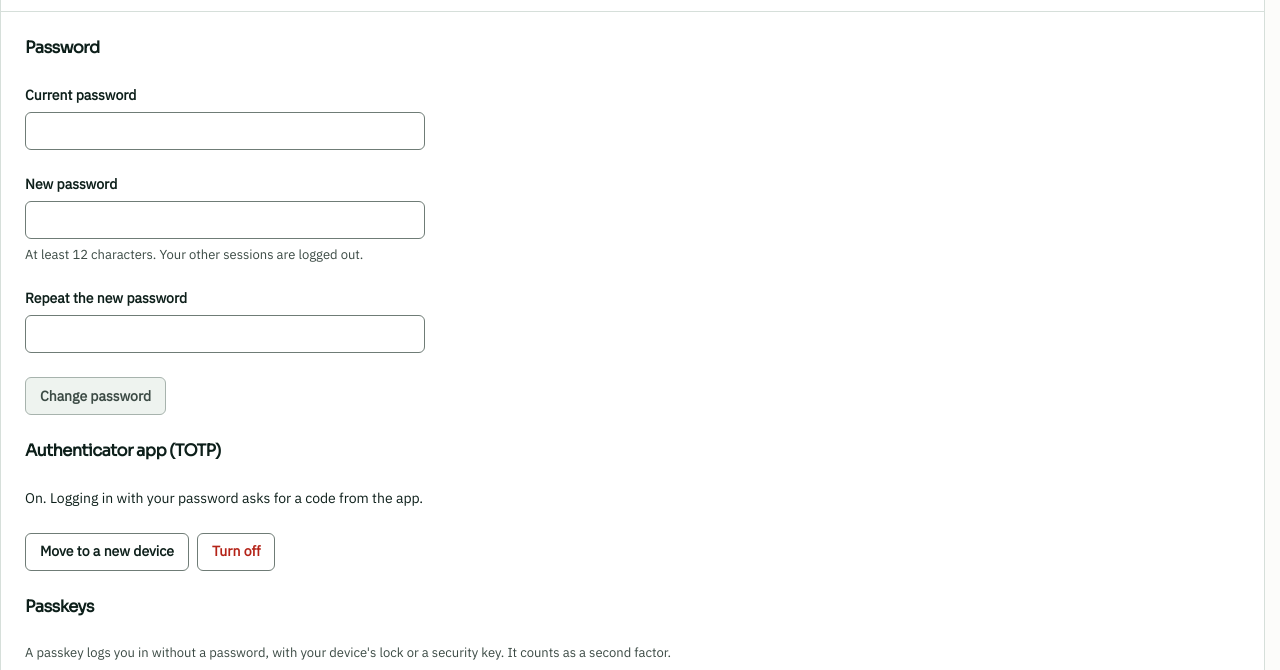
Test case: SecurityCard › turns TOTP off with password and code and explains a refusal
The width and height of the screenshot is (1280, 670).
Expected: the text "On." is shown, [25,489,423,507]
Click the button "Turn off". click: (236,552)
box: [197,533,276,571]
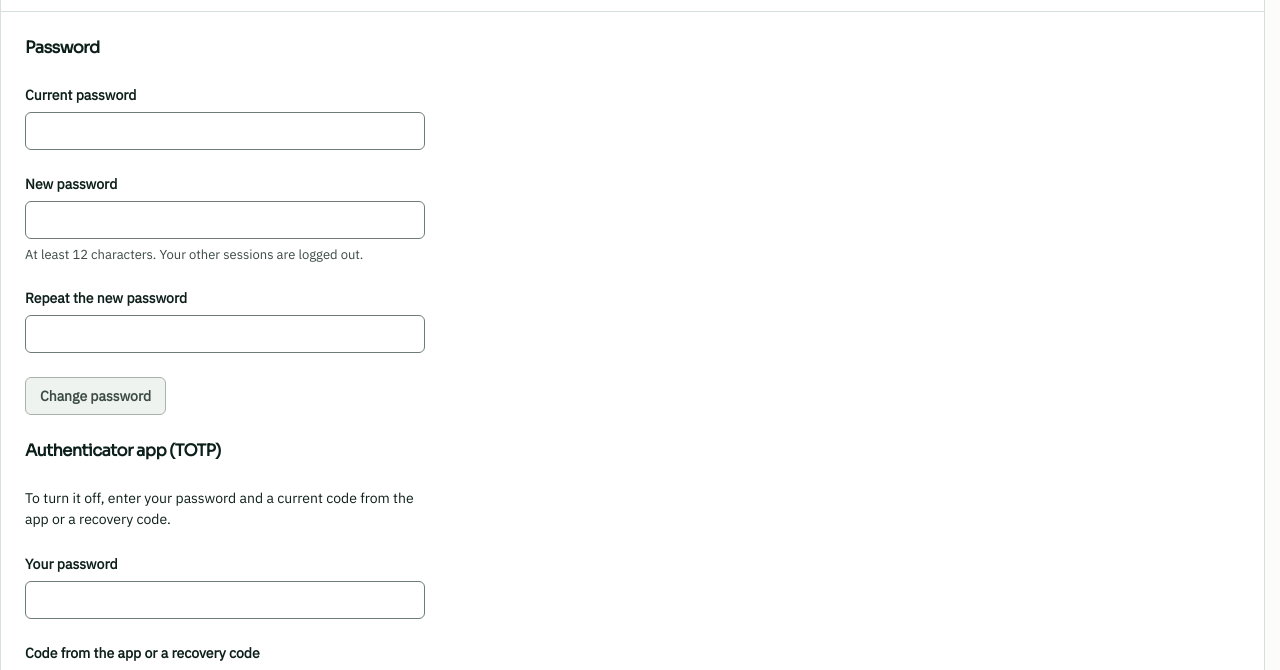
Type "my password 123" into the password field labelled "Your password". click: (225,600)
box: [25,581,425,619]
(page scrolled)
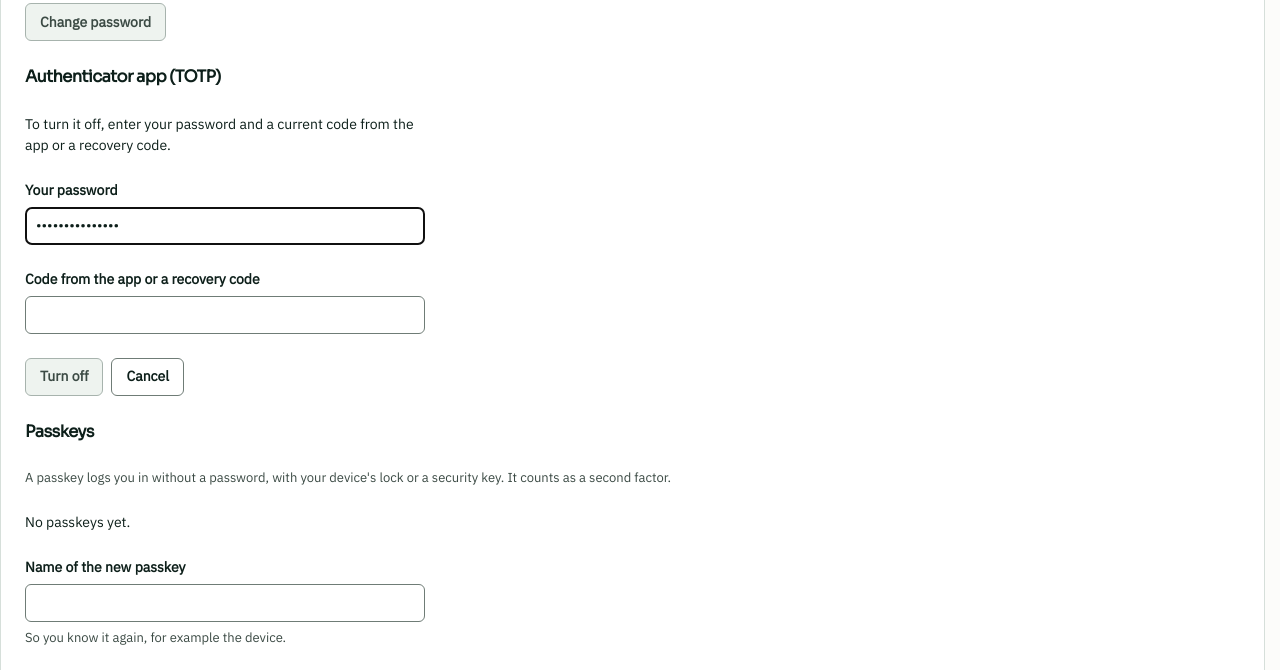
Type "123456" into the field labelled "Code from the app or a recovery code". click: (225,315)
box: [25,296,425,334]
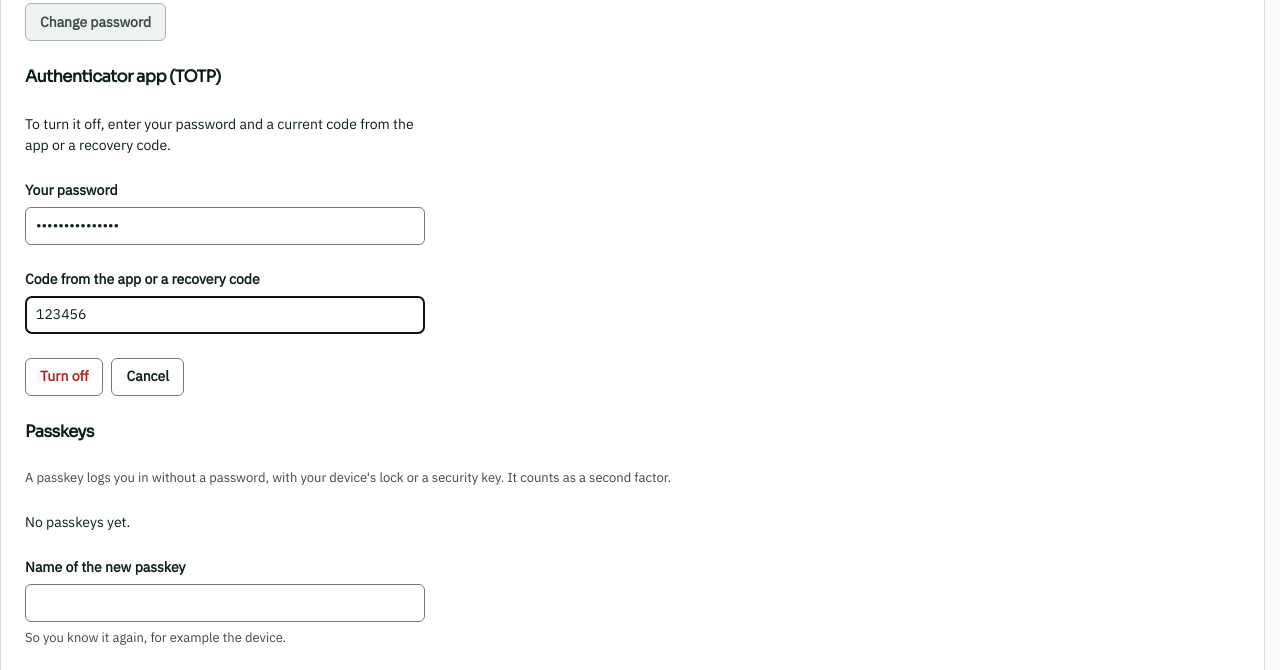
Click the button "Turn off". click: (64,377)
box: [25,358,104,396]
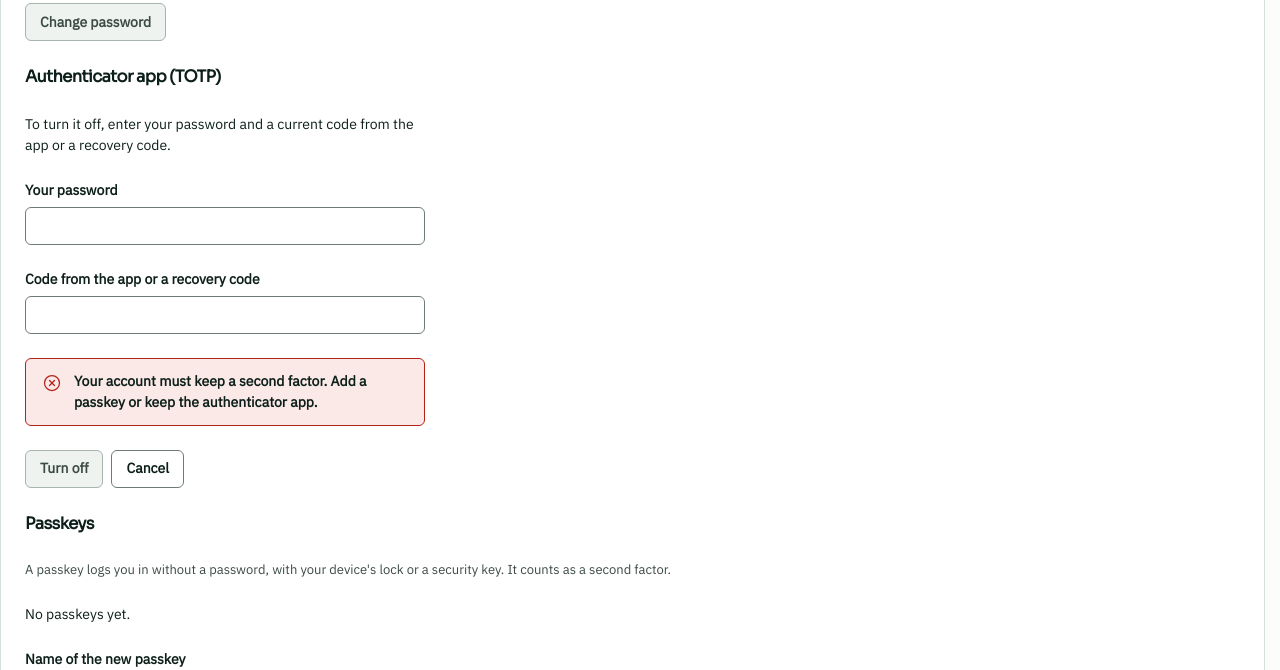
Result: the message shows "must keep a second factor" at [74,372,367,411]
Type "my password 123" into the password field labelled "Your password". click: (225,226)
box: [25,207,425,245]
Type "654321" into the field labelled "Code from the app or a recovery code". click: (225,315)
box: [25,296,425,334]
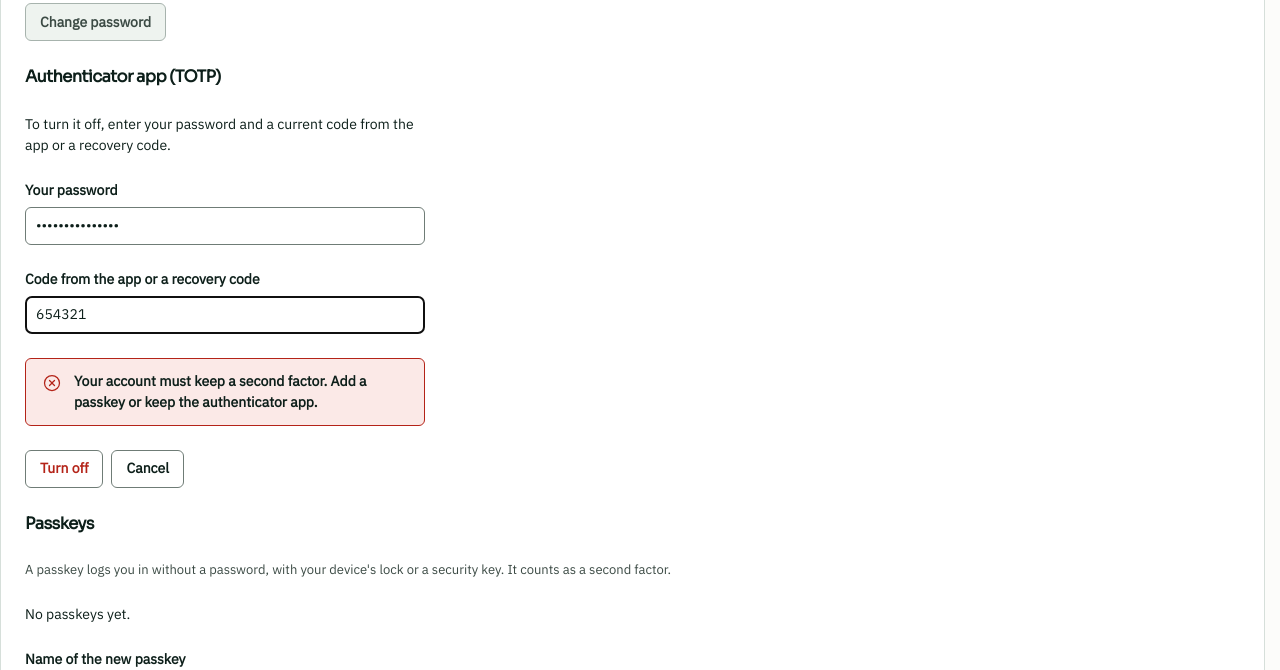
Click the button "Turn off". click: (64,469)
box: [25,450,104,488]
(page scrolled)
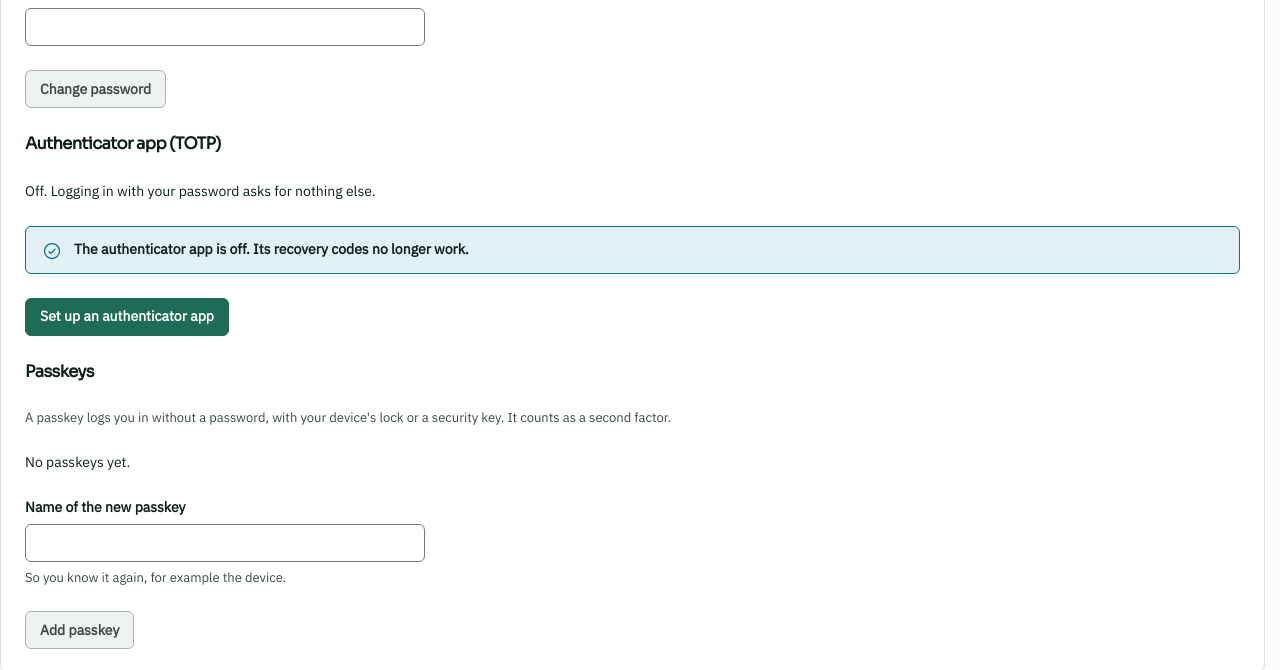
Result: the text "The authenticator app is off" is shown at [74,240,469,258]
Result: the button "Set up an authenticator app" is shown at [25,298,229,336]
